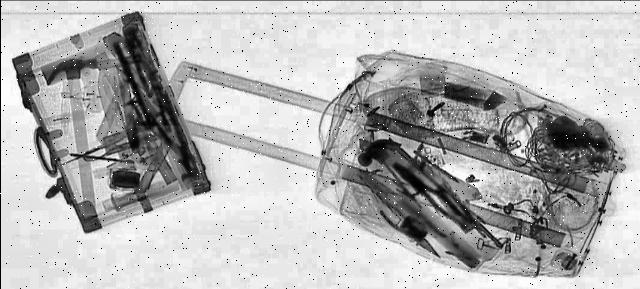Pliers: (373, 207, 451, 259)
